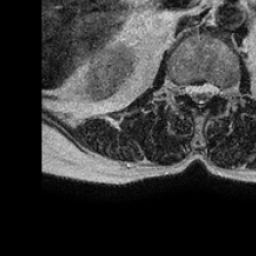CCS_normal: (196, 74, 207, 120)
LFS_stenosis: (218, 74, 229, 109)
LLS_normal: (207, 74, 218, 111)
RFS_normal: (175, 74, 186, 105)
RLS_normal: (186, 76, 196, 109)
